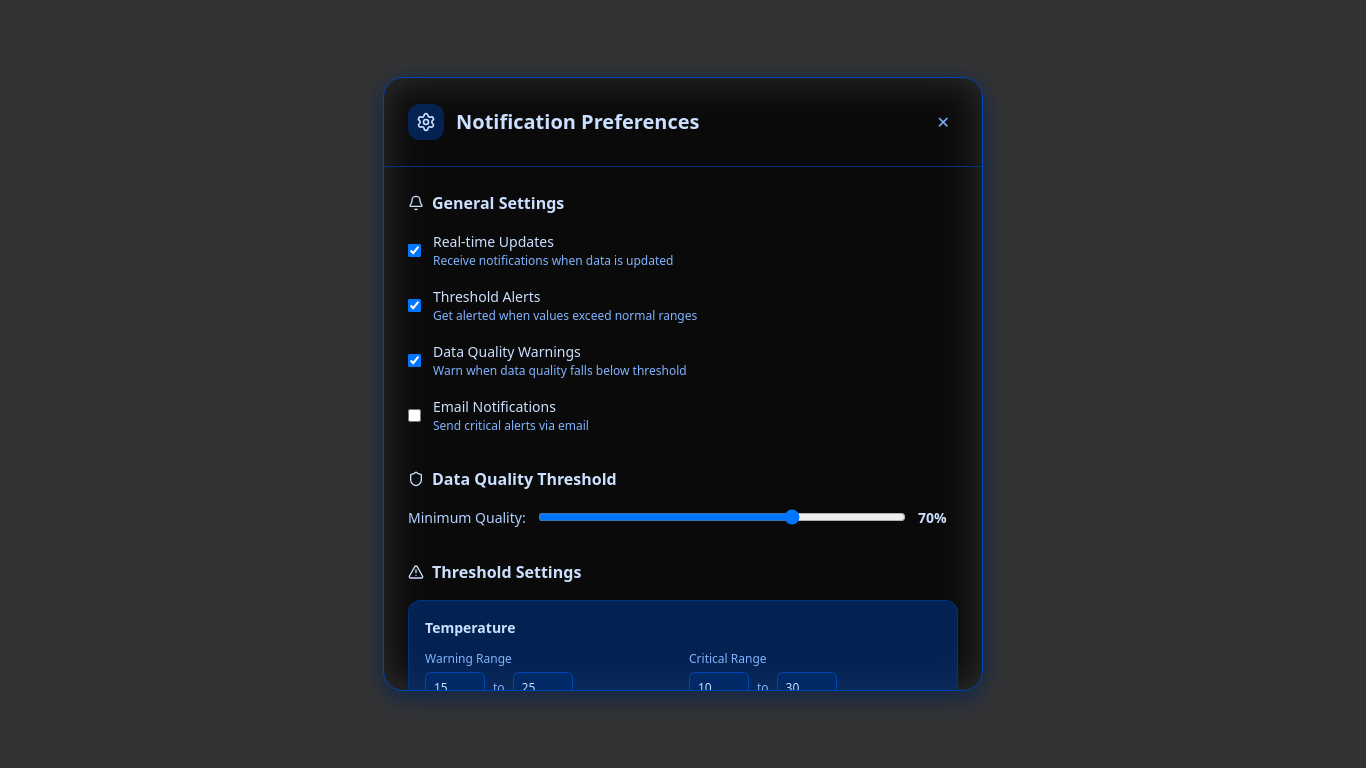
Test: NotificationPreferences › should update threshold values
// Update warning min threshold
Replace the text in the 1st number field with "20". click: (455, 688)
box: [425,672,485,704]
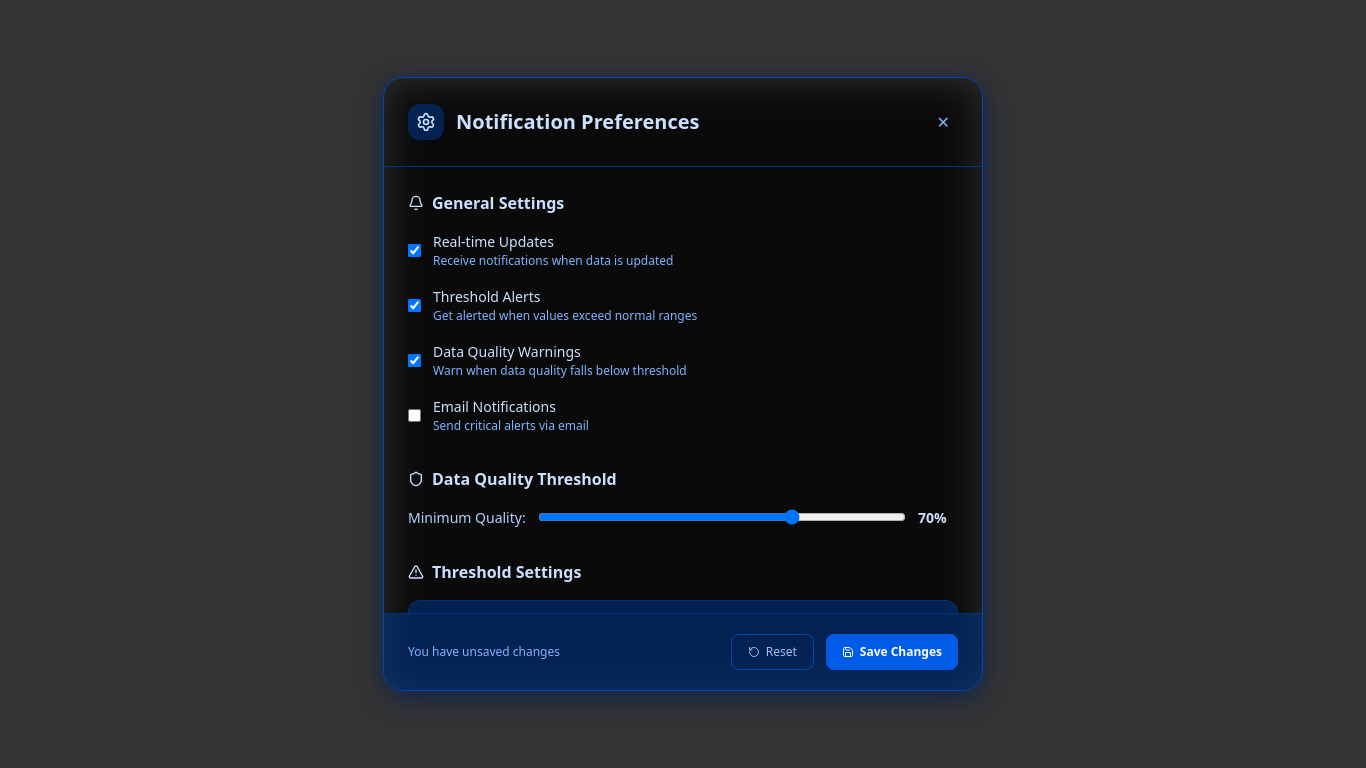
Expected: the text "You have unsaved changes" is shown, [408,643,560,661]
